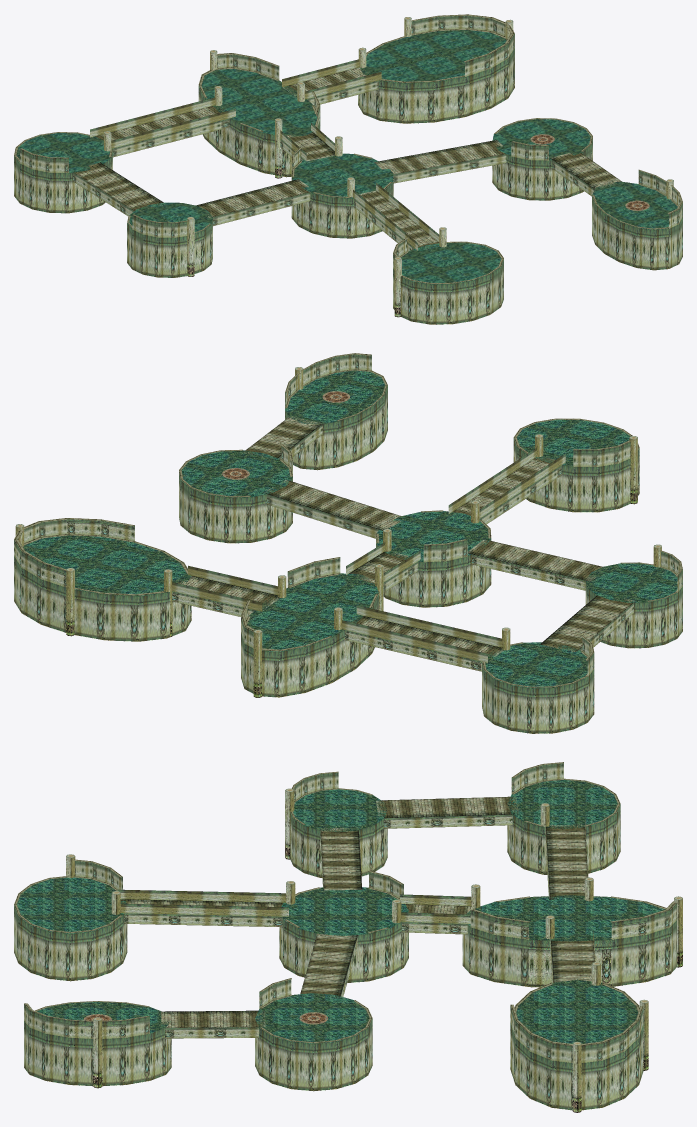
The model's file is anterose.gltf.
The picture shows the model from 3 angles, top to bottom: view 1: azimuth 30°, elevation 25°; view 2: azimuth 150°, elevation 25°; view 3: azimuth 270°, elevation 25°; orthographic projection. The views are drawn at different scales.
Parts seen in each view (by area): view 1: Esmelas platforms floor 2; view 2: Esmelas platforms floor 2; view 3: Esmelas platforms floor 2.
Boxes of the visible parts, <box> form: Esmelas platforms floor 2: <box>14,14,682,324</box>; Esmelas platforms floor 2: <box>14,353,682,733</box>; Esmelas platforms floor 2: <box>14,762,682,1112</box>.
Bounding box in the file's own units: 51.98 × 5.7 × 51.3.
6 materials, 6 textured.
